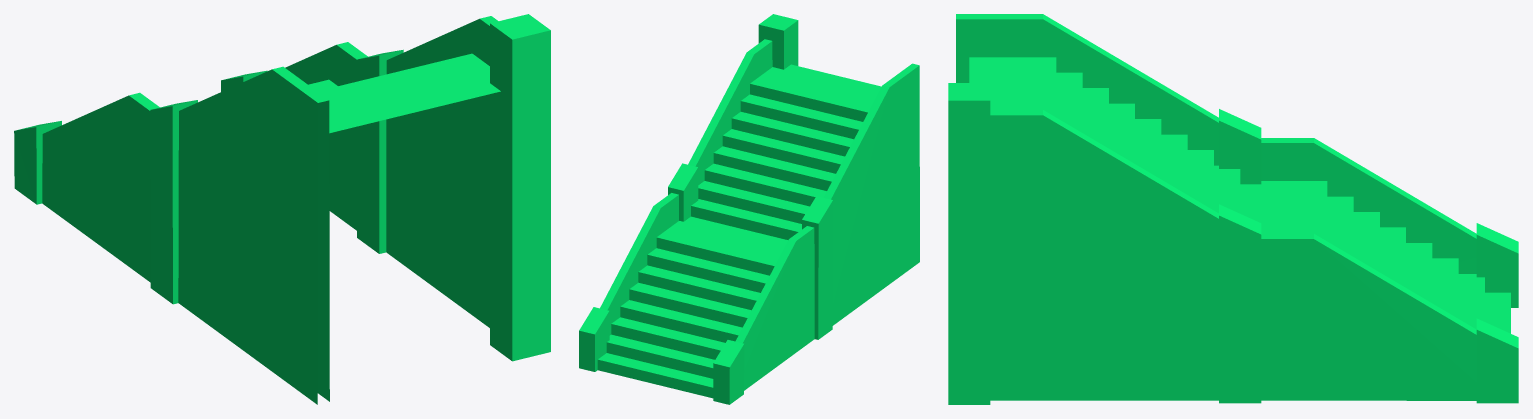
Rendered from Stairs_Collision.FBX.
3 renders of one model, left to right at view 1: azimuth 30°, elevation 25°; view 2: azimuth 150°, elevation 25°; view 3: azimuth 270°, elevation 25°, orthographic. The views are drawn at different scales.
Parts seen in each view (by area): view 1: Stairs_Collision; view 2: Stairs_Collision; view 3: Stairs_Collision.
Boxes of the visible parts, left/top/right/bottom form: Stairs_Collision: left=14, top=14, right=550, bottom=404; Stairs_Collision: left=579, top=14, right=919, bottom=404; Stairs_Collision: left=948, top=14, right=1518, bottom=404.
Size of the model in its own units: 4.81 by 6.29 by 10.68.
